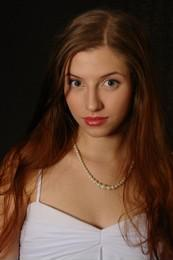face: (61, 57, 135, 138)
